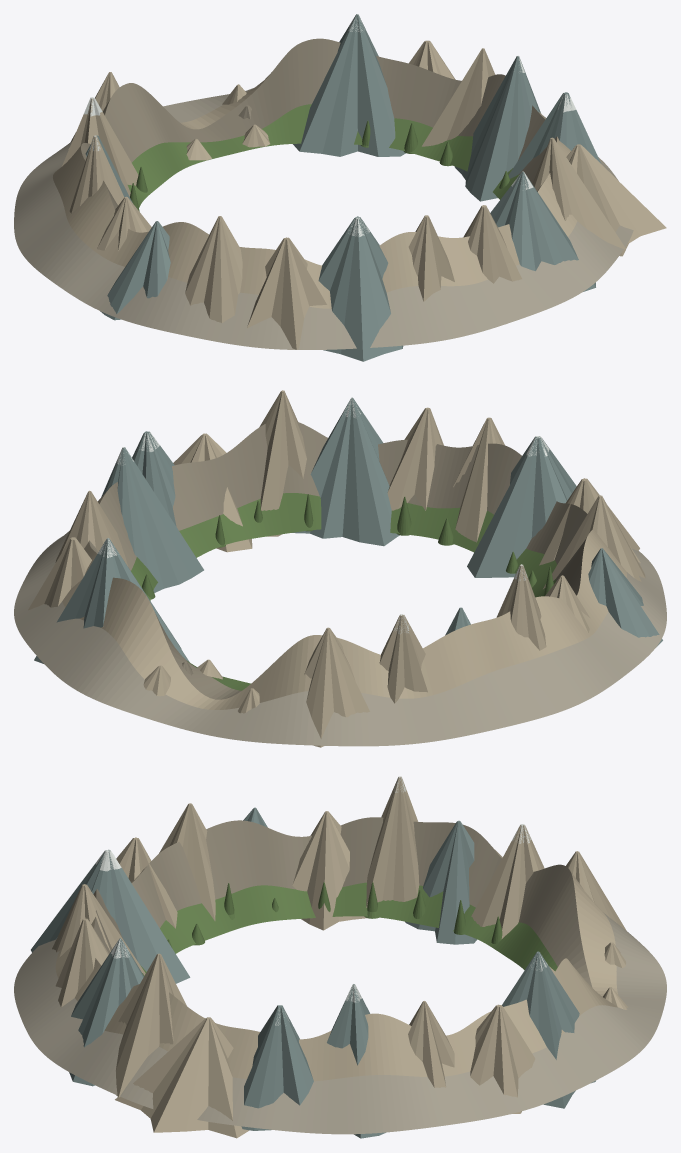
Rendered from mountain_ring.glb.
3 renders of one model, top to bottom at view 1: azimuth 30°, elevation 25°; view 2: azimuth 150°, elevation 25°; view 3: azimuth 270°, elevation 25°, orthographic. The views are drawn at different scales.
Parts seen in each view (by area): view 1: mountain_ring; view 2: mountain_ring; view 3: mountain_ring.
Boxes of the visible parts, left/top/right/bottom form: mountain_ring: left=14, top=14, right=666, bottom=361; mountain_ring: left=14, top=390, right=666, bottom=747; mountain_ring: left=14, top=776, right=666, bottom=1138.
Size of the model in its own units: 94.01 by 21.31 by 94.13.
